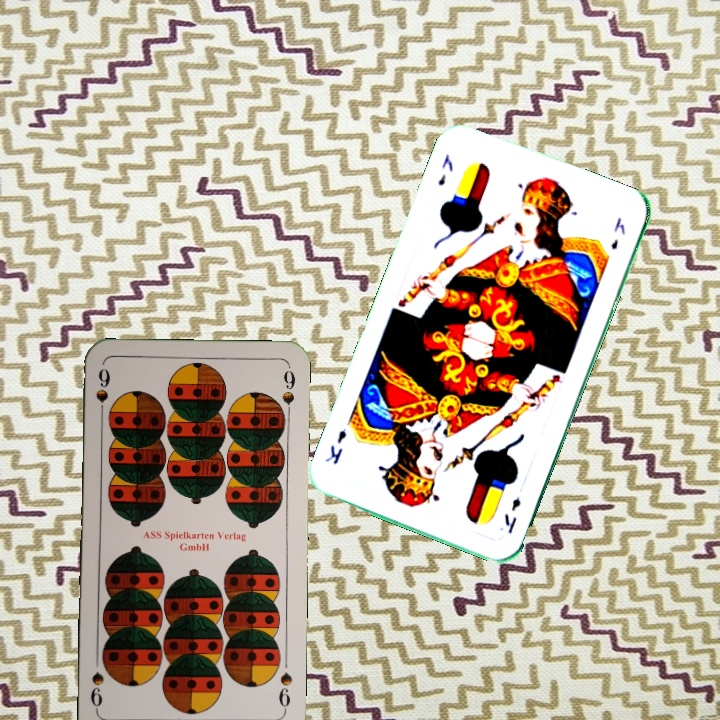EK: (500, 493, 524, 536), (433, 150, 456, 189)
S9: (91, 364, 113, 422), (274, 669, 295, 715)
